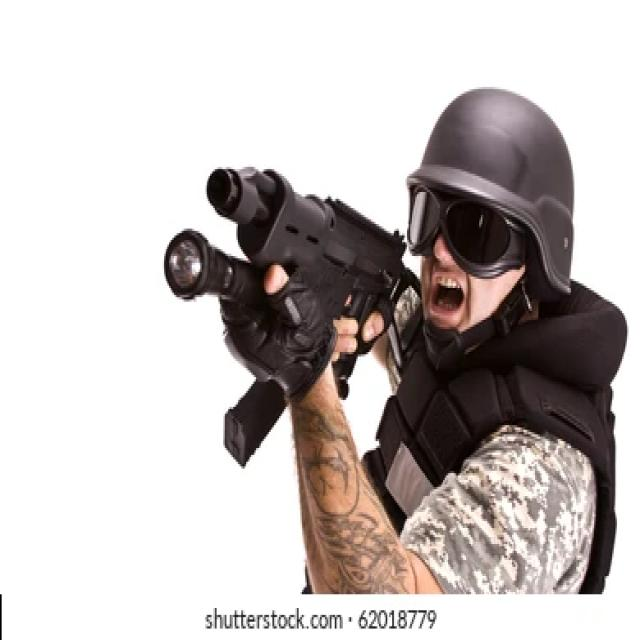soldier: (165, 89, 627, 599)
